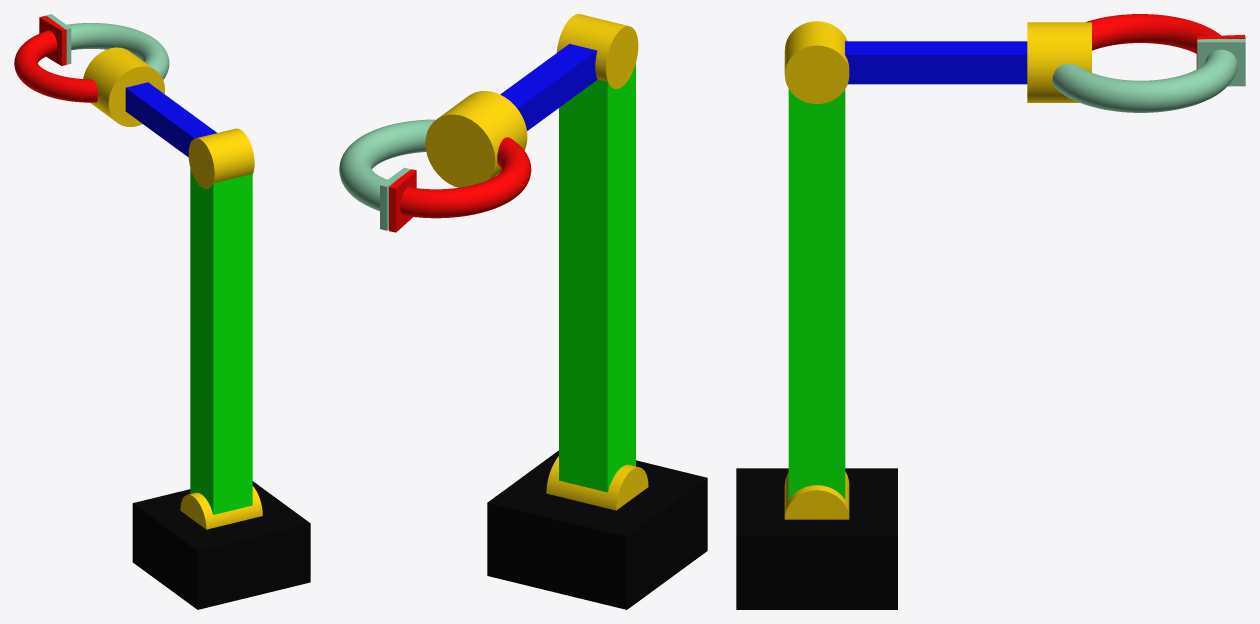
The model's file is robot.gltf.
3 views of the same model, side by side, from view 1: azimuth 30°, elevation 25°; view 2: azimuth 150°, elevation 25°; view 3: azimuth 270°, elevation 25° (orthographic). The views are drawn at different scales.
Bounding box in the file's own units: 2.38 × 7.5 × 6.3.
